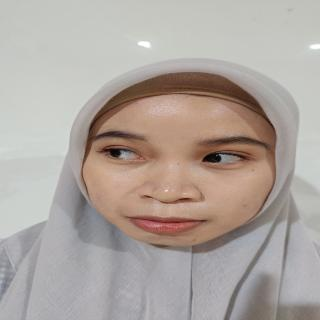Takut: (77, 76, 288, 255)
